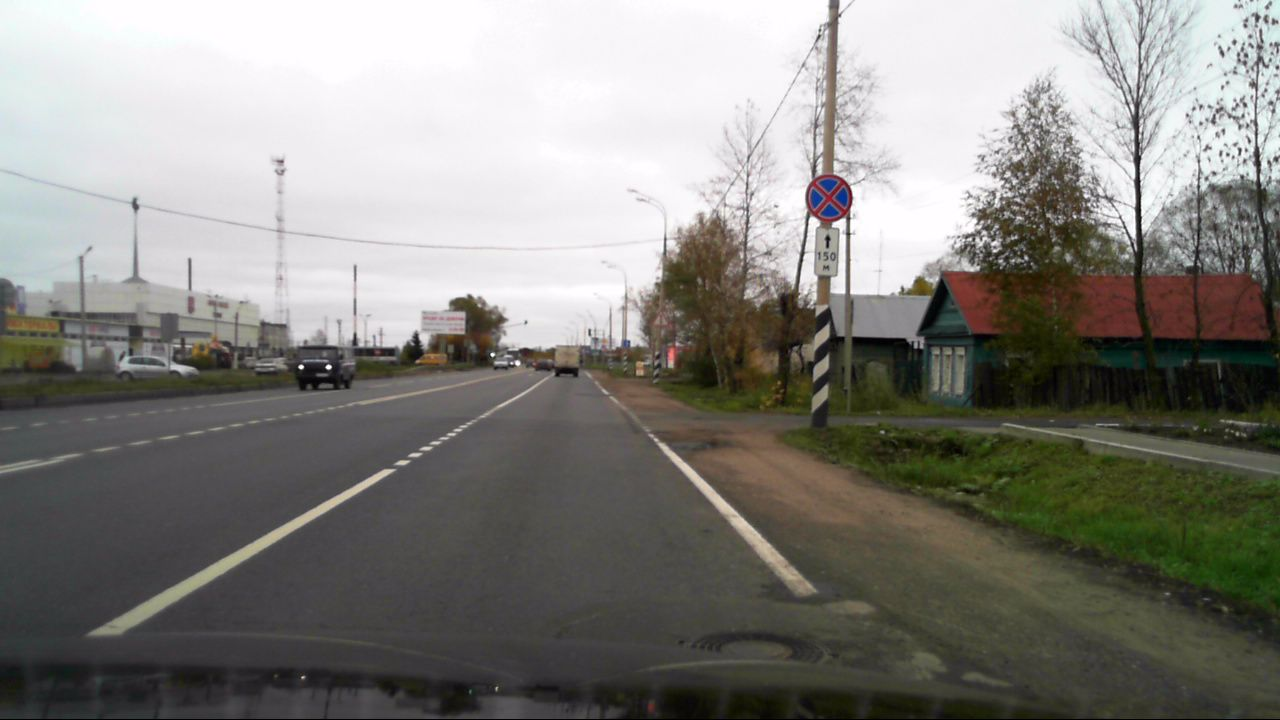No Parking: (804, 174, 851, 222)
